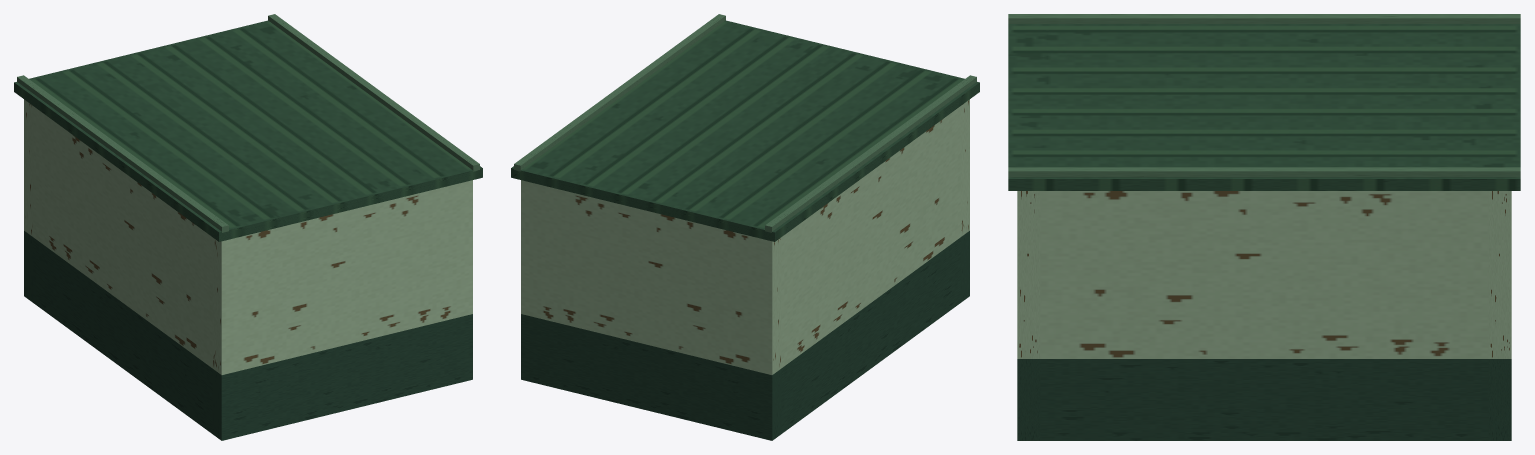
The model's file is StorageAnnex.fbx.
The picture shows the model from 3 angles, left to right: view 1: azimuth 30°, elevation 25°; view 2: azimuth 150°, elevation 25°; view 3: azimuth 270°, elevation 25°; orthographic projection. The views are drawn at different scales.
Visible parts, largest first — view 1: StorageAnnex; view 2: StorageAnnex; view 3: StorageAnnex.
Boxes of the visible parts, box(x1,y1,x2,y2) form: StorageAnnex: box(14, 14, 482, 440); StorageAnnex: box(511, 14, 979, 440); StorageAnnex: box(1008, 14, 1520, 440).
Bounding box in the file's own units: 462 × 364 × 622.
